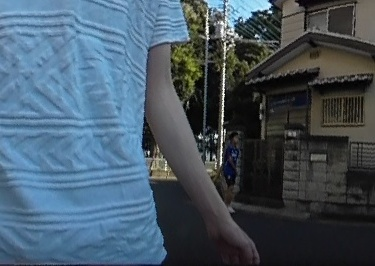person: (221, 130, 239, 211)
